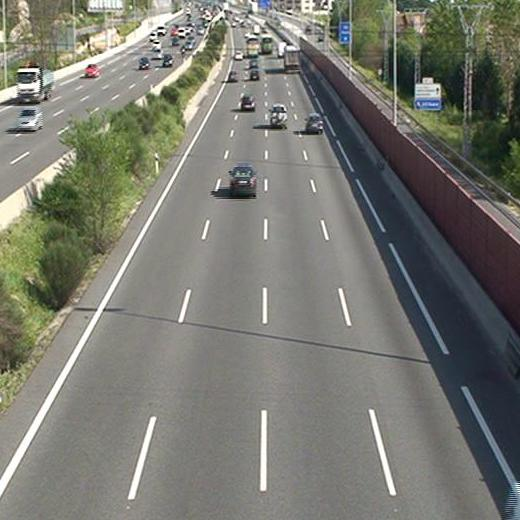bus: (246, 35, 258, 58), (261, 37, 273, 54)
car: (230, 165, 256, 196), (270, 104, 287, 125), (306, 113, 324, 131), (240, 96, 255, 111), (228, 71, 239, 82), (250, 70, 259, 80)
truck: (284, 48, 300, 71)
